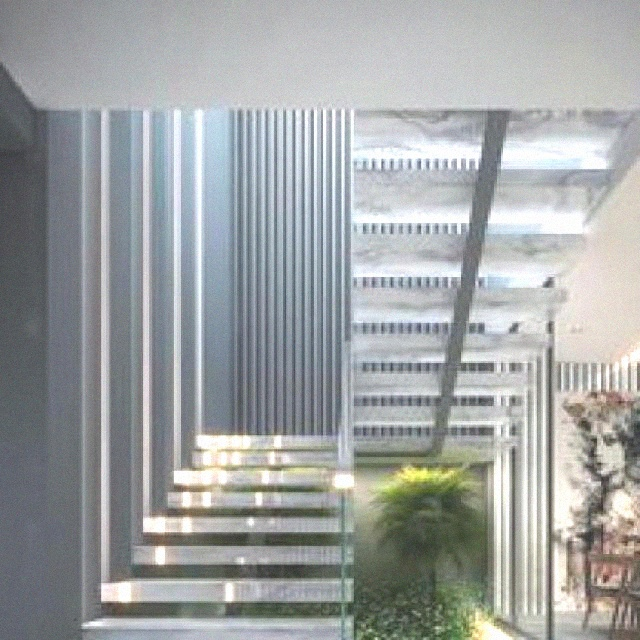stair: (18, 107, 637, 638)
